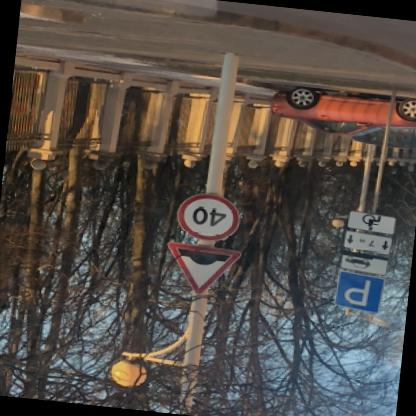speedlimit: (176, 191, 242, 244)
